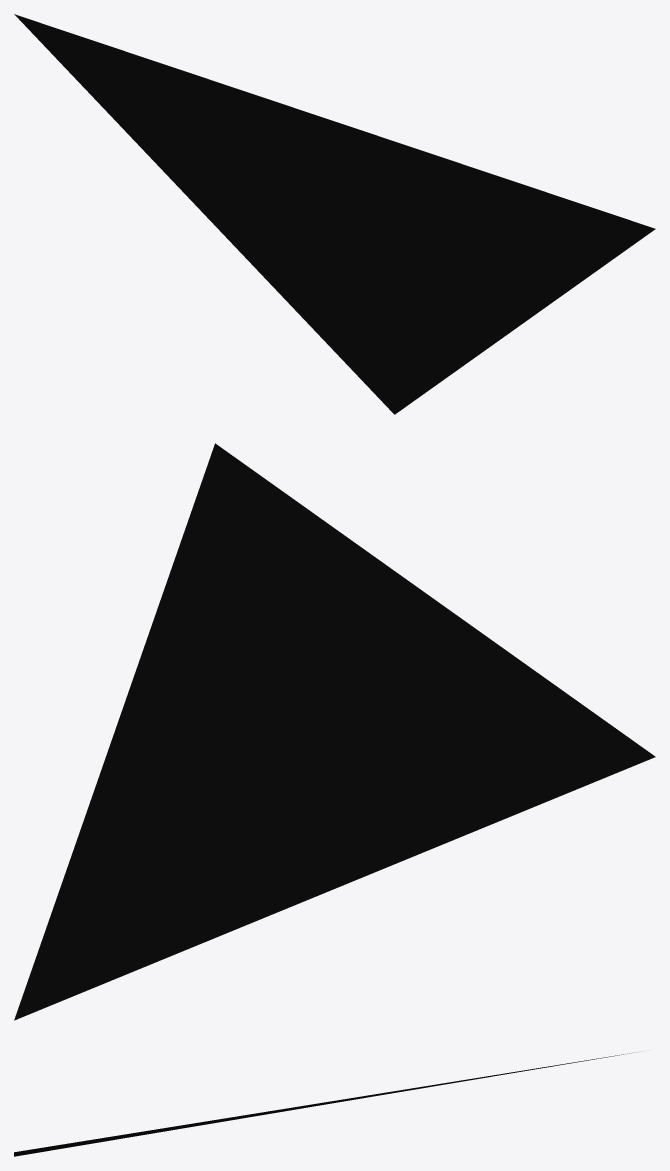
The picture shows the model from 3 angles, top to bottom: view 1: azimuth 30°, elevation 25°; view 2: azimuth 150°, elevation 25°; view 3: azimuth 270°, elevation 25°; orthographic projection. The views are drawn at different scales.
Size of the model in its own units: 0.7365 by 0.3291 by 1.86.
Materials: 1 (1 with a texture image).
